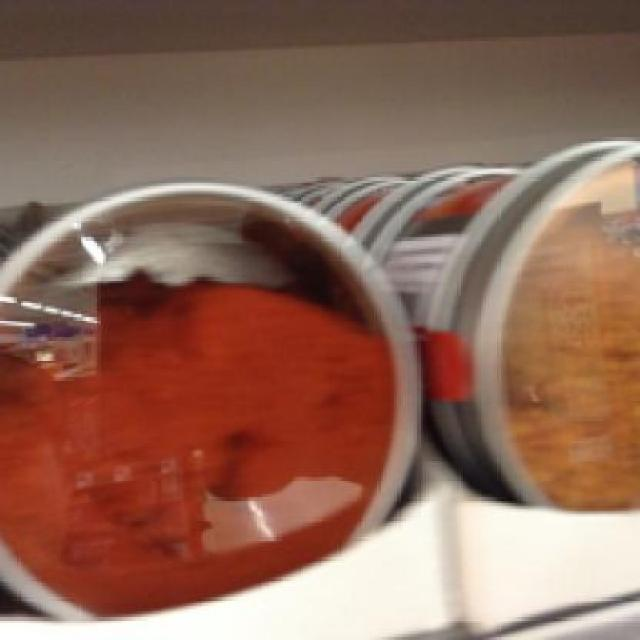Spices: (0, 177, 420, 620), (445, 133, 638, 510)
